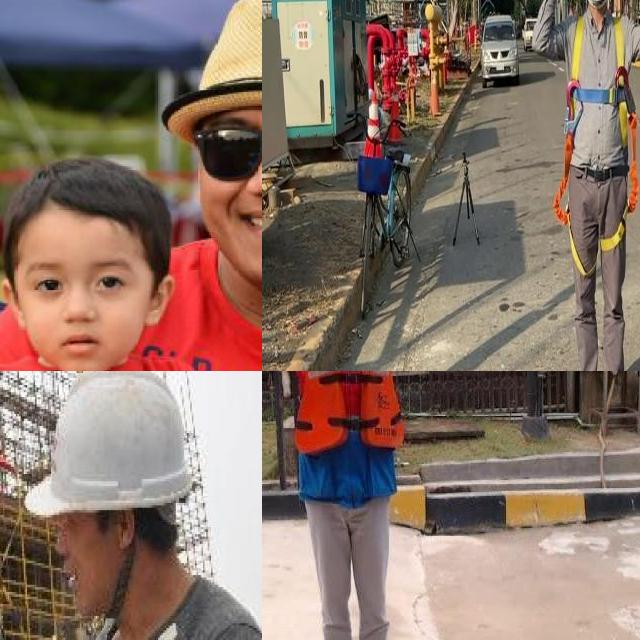Harness: (553, 16, 639, 276)
No_Ear-Protection: (146, 274, 174, 330), (110, 506, 138, 553)
No_Glasses: (11, 250, 140, 304)
face_nomask: (19, 265, 136, 362), (195, 114, 262, 254), (41, 518, 104, 602)
glasses: (183, 122, 262, 184)
head_helmet: (12, 371, 192, 521)
head_nohelmet: (167, 3, 262, 136), (12, 158, 153, 238)
person: (0, 371, 262, 640), (0, 153, 229, 371), (158, 0, 262, 371)
vest: (292, 371, 406, 498)
